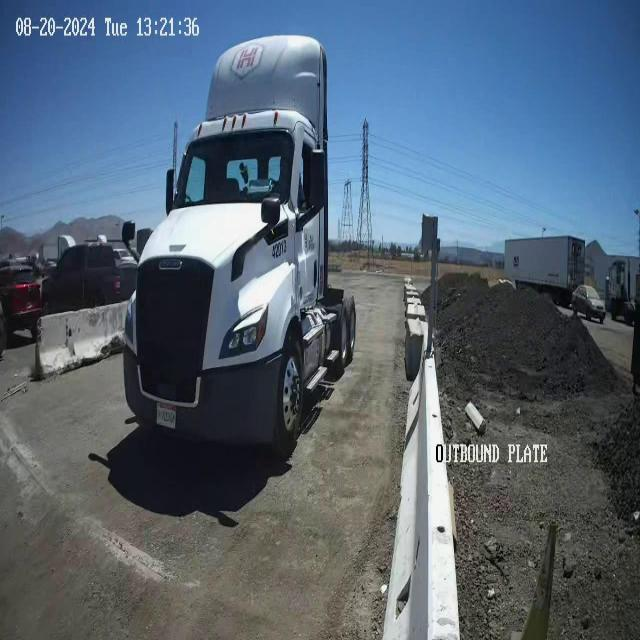BOBTAIL: (121, 32, 357, 460)
